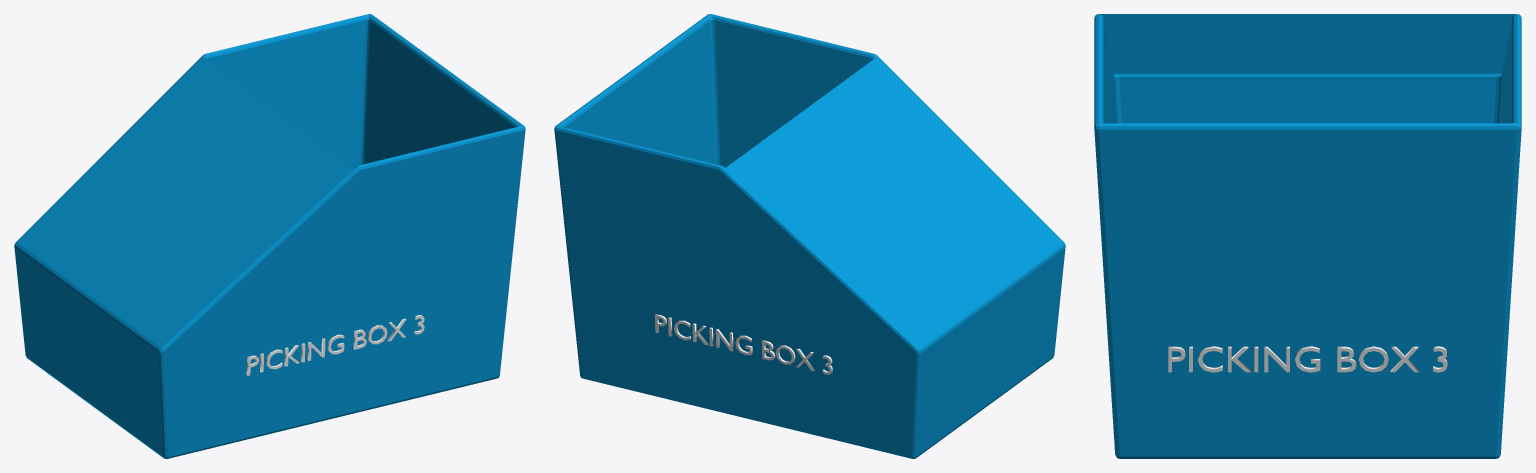
3 views of the same model, side by side, from view 1: azimuth 30°, elevation 25°; view 2: azimuth 150°, elevation 25°; view 3: azimuth 270°, elevation 25° (orthographic). The views are drawn at different scales.
Parts seen in each view (by area): view 1: picking-bin-3; view 2: picking-bin-3; view 3: picking-bin-3.
Part boxes in pixels (<box>): picking-bin-3: <box>14,14,525,458</box>; picking-bin-3: <box>554,14,1065,458</box>; picking-bin-3: <box>1094,14,1521,458</box>.
Bounding box in the file's own units: 0.1942 × 0.13 × 0.1448.
